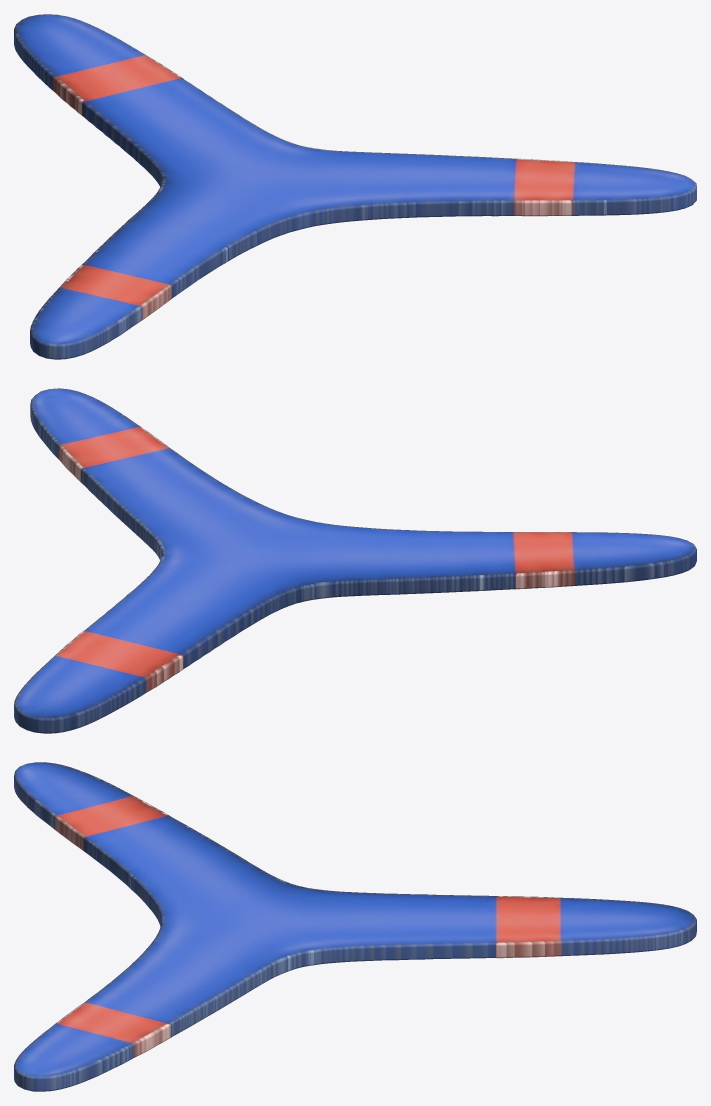
File: Boomerang_2.fbx
3 views of the same model, one above another, from view 1: azimuth 30°, elevation 25°; view 2: azimuth 150°, elevation 25°; view 3: azimuth 270°, elevation 25° (orthographic).
Parts seen in each view (by area): view 1: Boomerang_2; view 2: Boomerang_2; view 3: Boomerang_2.
Part boxes in pixels (left/top/right/bottom): Boomerang_2: left=14, top=14, right=696, bottom=359; Boomerang_2: left=14, top=388, right=696, bottom=733; Boomerang_2: left=14, top=762, right=696, bottom=1091.
Size of the model in its own units: 199 by 4.4 by 182.
Materials: 1 (1 with a texture image).
